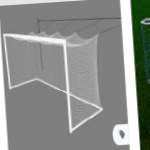goals: (2, 29, 104, 134)
